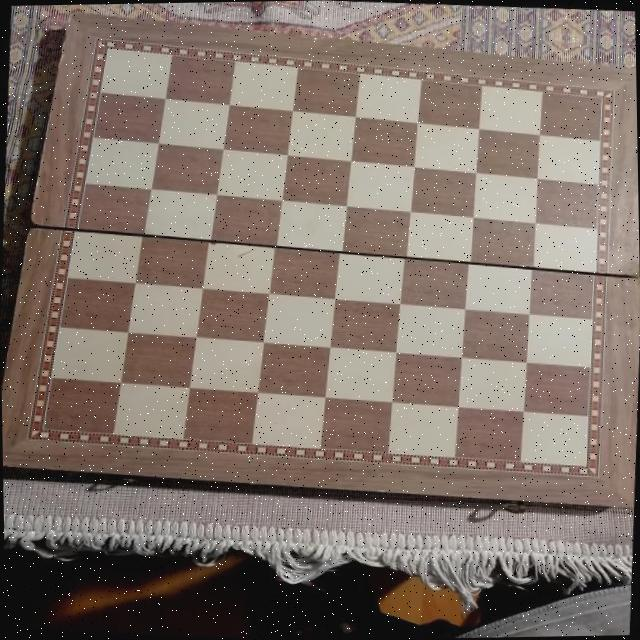corners: (62, 10, 84, 23)
